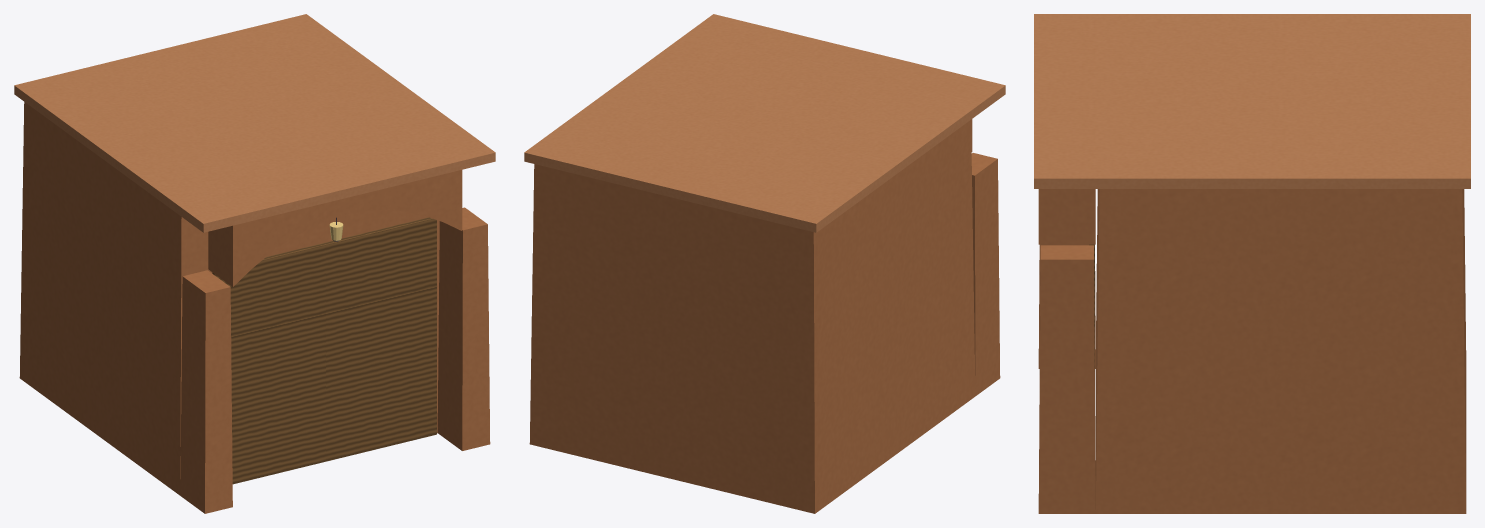
The model's file is SM_Souq_Stall_W4D45H38.fbx.
3 renders of one model, left to right at view 1: azimuth 30°, elevation 25°; view 2: azimuth 150°, elevation 25°; view 3: azimuth 270°, elevation 25°, orthographic. The views are drawn at different scales.
Parts seen in each view (by area): view 1: SM_Souq_Stall_W4D45H38; view 2: SM_Souq_Stall_W4D45H38; view 3: SM_Souq_Stall_W4D45H38.
Part boxes in pixels (x1,y1,x2,y2): SM_Souq_Stall_W4D45H38: (14, 14, 495, 513); SM_Souq_Stall_W4D45H38: (524, 14, 1005, 513); SM_Souq_Stall_W4D45H38: (1034, 14, 1470, 513).
Size of the model in its own units: 4.1 by 3.92 by 4.6.
